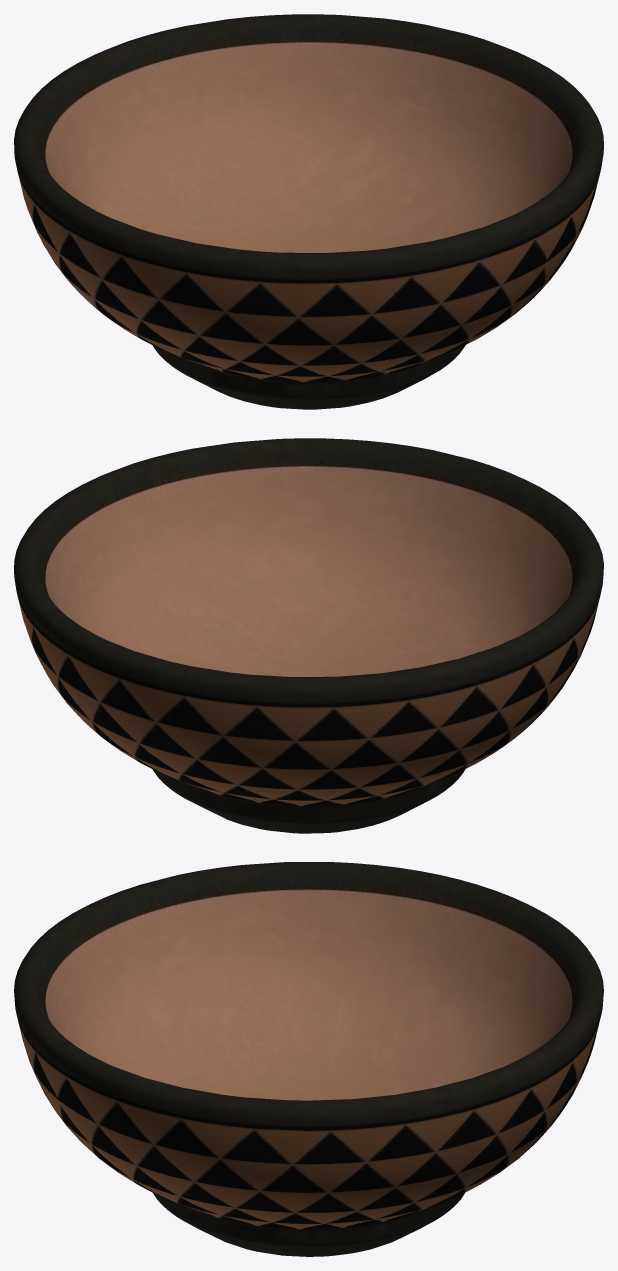
Rendered from bowl_terracotta.glb.
3 views of the same model, one above another, from view 1: azimuth 30°, elevation 25°; view 2: azimuth 150°, elevation 25°; view 3: azimuth 270°, elevation 25° (orthographic).
Parts seen in each view (by area): view 1: bowl_terracotta; view 2: bowl_terracotta; view 3: bowl_terracotta.
Part boxes in pixels (x1=…): bowl_terracotta: x1=14, y1=14, x2=603, y2=409; bowl_terracotta: x1=14, y1=438, x2=603, y2=833; bowl_terracotta: x1=14, y1=862, x2=603, y2=1256.
Size of the model in its own units: 0.1467 by 0.0629 by 0.1467.
Materials: 1 (1 with a texture image).
